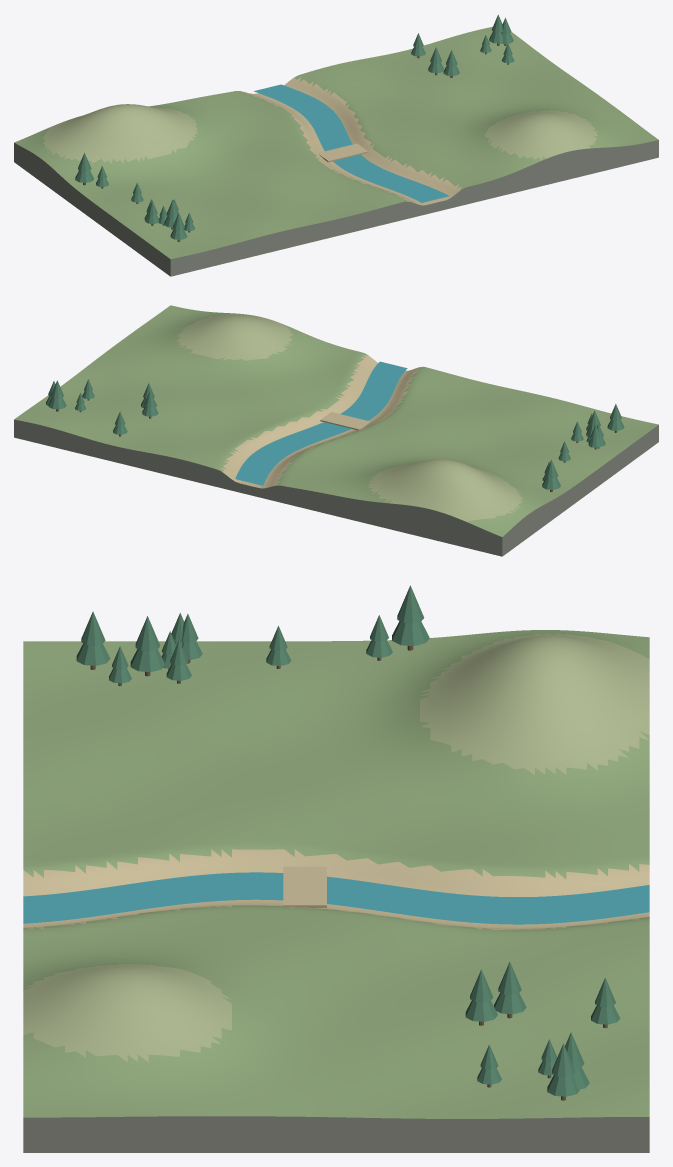
The model's file is battlefield.glb.
3 renders of one model, top to bottom at view 1: azimuth 30°, elevation 25°; view 2: azimuth 150°, elevation 25°; view 3: azimuth 270°, elevation 25°, orthographic. The views are drawn at different scales.
Parts seen in each view (by area): view 1: Terrain, Earth cutaway, River, Ford; view 2: Terrain, Earth cutaway, River, Ford; view 3: Terrain, Earth cutaway, River, Ford.
Part boxes in pixels (bbox=[...]): Terrain: bbox=[14, 26, 658, 259]; Earth cutaway: bbox=[14, 140, 658, 276]; River: bbox=[254, 84, 449, 202]; Ford: bbox=[318, 143, 368, 162]; Terrain: bbox=[14, 305, 658, 536]; Earth cutaway: bbox=[14, 419, 658, 556]; River: bbox=[235, 361, 407, 485]; Ford: bbox=[320, 412, 371, 430]; Terrain: bbox=[23, 630, 649, 1118]; Earth cutaway: bbox=[23, 1116, 649, 1152]; River: bbox=[23, 872, 649, 924]; Ford: bbox=[283, 866, 326, 907].
Bounding box in the file's own units: 54 × 5.66 × 30.
